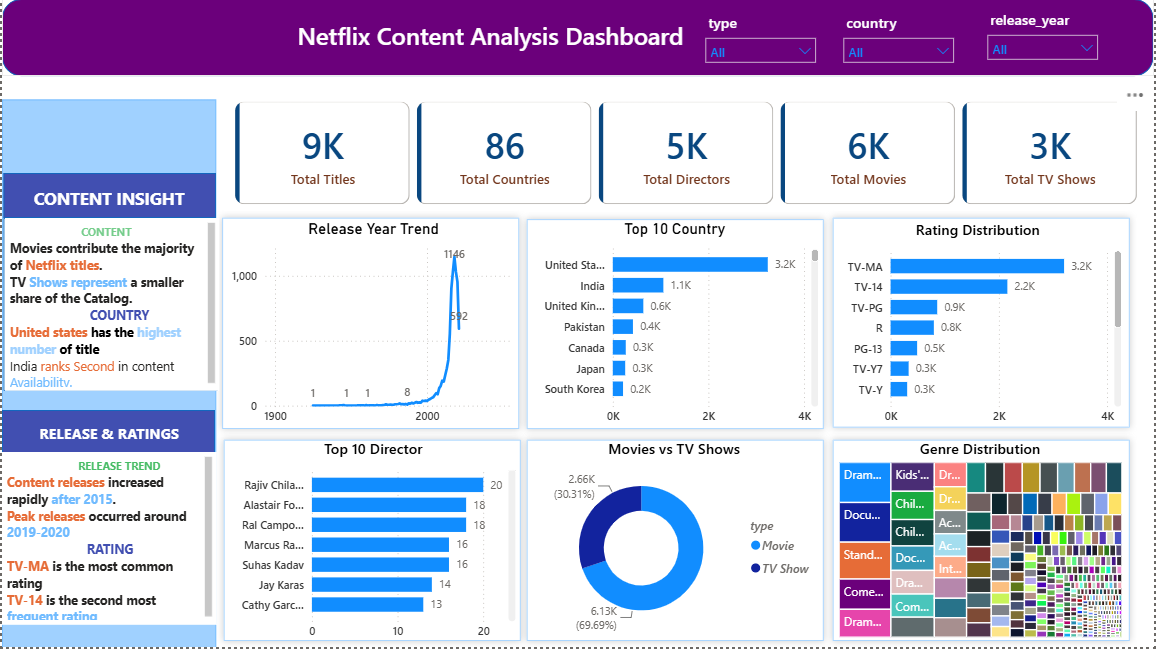

What the dashboard file says about the page in this screenshot:
{"tool":"powerbi","page":{"name":"Page 1","canvas":[1280,720],"ordinal":0},"visuals":[{"type":"cardVisual","fields":{"Data":["Netflix_Data.Total Titles","Netflix_Data.Total Countries","Netflix_Data.Total Directors","Netflix_Data.Total Movies","Netflix_Data.Total TV Shows"]},"box":[242,96,1038,148],"z":0},{"type":"shape","box":[0,0,1279.4,85.7],"z":1},{"type":"textbox","box":[312.7,15.9,458.7,61.9],"z":2},{"type":"shape","box":[236.5,234.9,346,250.8],"z":5},{"type":"shape","box":[238.1,481,346,239.7],"z":10},{"type":"shape","box":[574.6,236.5,346,249.2],"z":11},{"type":"shape","box":[914.3,234.9,346,249.2],"z":12},{"type":"shape","box":[914.3,481,346,239.7],"z":13},{"type":"shape","box":[574.6,481,346,239.7],"z":14},{"type":"donutChart","title":"Movies vs TV Shows","fields":{"Category":["Netflix_Data.type"],"Y":["CountNonNull(Netflix_Data.show_id)"]},"box":[584.1,488.9,327,225.4],"z":15},{"type":"lineChart","title":"Release Year Trend","fields":{"Category":["Netflix_Data.release_year"],"Y":["CountNonNull(Netflix_Data.show_id)"]},"box":[249.2,244.4,325.4,236.5],"z":16},{"type":"barChart","title":" Top 10 Country","fields":{"Category":["Netflix_Data.country"],"Y":["CountNonNull(Netflix_Data.show_id)"]},"box":[582.5,244.4,328.6,236.5],"z":17},{"type":"clusteredBarChart","title":"Rating Distribution","fields":{"Category":["Netflix_Data.rating"],"Y":["CountNonNull(Netflix_Data.show_id)"]},"box":[920.6,244.4,328.6,236.5],"z":18},{"type":"barChart","title":"Top 10 Director","fields":{"Category":["Netflix_Data.director"],"Y":["CountNonNull(Netflix_Data.show_id)"]},"box":[249.2,488.9,325.4,231.7],"z":19},{"type":"treemap","title":"Genre Distribution","fields":{"Group":["Netflix_Data.listed_in"],"Values":["CountNonNull(Netflix_Data.show_id)"]},"box":[925.4,488.9,323.8,225.4],"z":20},{"type":"slicer","fields":{"Values":["Netflix_Data.type"]},"box":[771.4,9.5,142.9,71.4],"z":21},{"type":"slicer","fields":{"Values":["Netflix_Data.country"]},"box":[925.4,9.5,142.9,71.4],"z":22},{"type":"slicer","fields":{"Values":["Netflix_Data.release_year"]},"box":[1085.7,6.3,142.9,71.4],"z":23},{"type":"shape","box":[0,111.1,238.1,609.5],"z":24},{"type":"shape","box":[2,194,236,50],"z":25},{"type":"textbox","box":[0,204,238,40],"z":26},{"type":"shape","box":[2,244,238,192],"z":27},{"type":"textbox","box":[4,244,238,192],"z":29},{"type":"shape","box":[0,456.7,236.7,50],"z":31},{"type":"textbox","box":[0,503.3,238.3,191.7],"z":32},{"type":"textbox","box":[0,466.7,238.3,40],"z":33}]}

Visuals, with their boxes in screenshot pixels (x1, y1, x2, y2), scaled from the page's 1280x720 canvas onto the 1156x649 screenshot:
cardVisual - Netflix_Data.Total Titles x Netflix_Data.Total Countries: <bbox>219, 87, 1155, 220</bbox>
shape: <bbox>0, 0, 1155, 77</bbox>
textbox: <bbox>282, 14, 697, 70</bbox>
shape: <bbox>214, 212, 526, 438</bbox>
shape: <bbox>215, 434, 528, 648</bbox>
shape: <bbox>519, 213, 831, 438</bbox>
shape: <bbox>826, 212, 1138, 436</bbox>
shape: <bbox>826, 434, 1138, 648</bbox>
shape: <bbox>519, 434, 831, 648</bbox>
"Movies vs TV Shows" donutChart: <bbox>528, 441, 823, 644</bbox>
"Release Year Trend" lineChart: <bbox>225, 220, 519, 433</bbox>
" Top 10 Country" barChart: <bbox>526, 220, 823, 433</bbox>
"Rating Distribution" clusteredBarChart: <bbox>831, 220, 1128, 433</bbox>
"Top 10 Director" barChart: <bbox>225, 441, 519, 648</bbox>
"Genre Distribution" treemap: <bbox>836, 441, 1128, 644</bbox>
slicer - Netflix_Data.type: <bbox>697, 9, 826, 73</bbox>
slicer - Netflix_Data.country: <bbox>836, 9, 965, 73</bbox>
slicer - Netflix_Data.release_year: <bbox>981, 6, 1110, 70</bbox>
shape: <bbox>0, 100, 215, 648</bbox>
shape: <bbox>2, 175, 215, 220</bbox>
textbox: <bbox>0, 184, 215, 220</bbox>
shape: <bbox>2, 220, 217, 393</bbox>
textbox: <bbox>4, 220, 219, 393</bbox>
shape: <bbox>0, 412, 214, 457</bbox>
textbox: <bbox>0, 454, 215, 626</bbox>
textbox: <bbox>0, 421, 215, 457</bbox>
